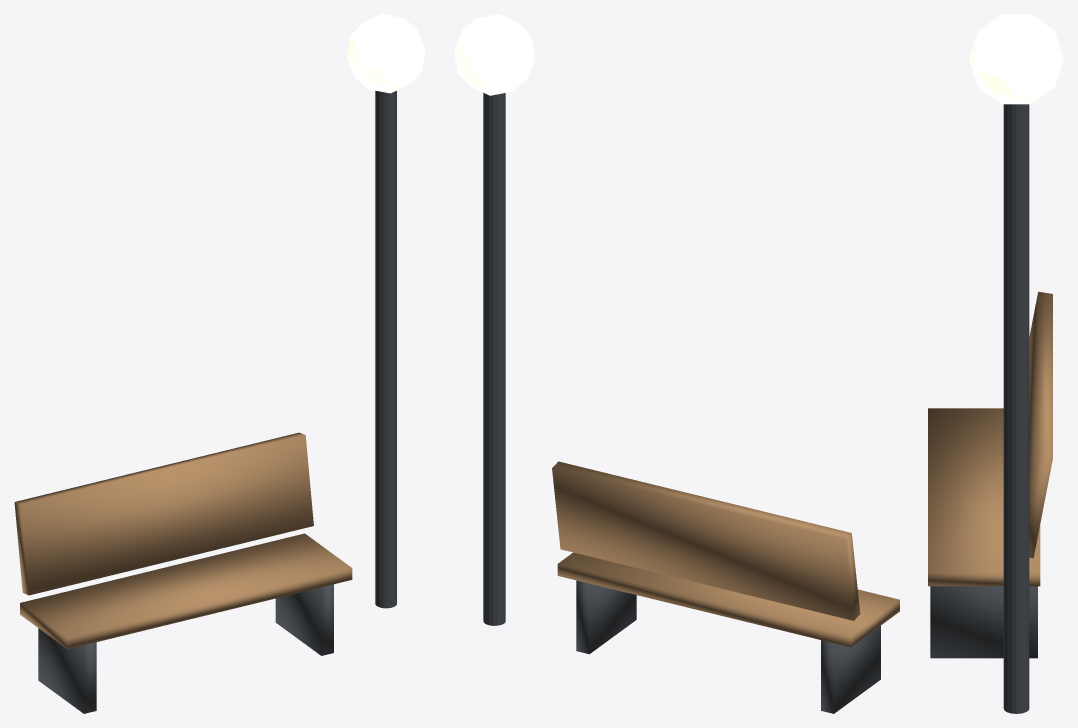
Rendered from Prop_ParkBenchLamp_Hybrid.glb.
3 renders of one model, left to right at view 1: azimuth 30°, elevation 25°; view 2: azimuth 150°, elevation 25°; view 3: azimuth 270°, elevation 25°, orthographic. The views are drawn at different scales.
Visible parts, largest first — view 1: Bench_Back, Bench_Seat, Cylinder, Icosphere, Bench_Leg_-0.75, Bench_Leg_0.75; view 2: Bench_Back, Cylinder, Bench_Seat, Icosphere, Bench_Leg_-0.75, Bench_Leg_0.75; view 3: Cylinder, Bench_Seat, Icosphere, Bench_Leg_0.75, Bench_Back.
Part boxes in pixels (box(x1,y1,x2,y2)): Bench_Back: box(14, 432, 313, 595); Bench_Seat: box(20, 533, 352, 649); Cylinder: box(375, 90, 396, 608); Icosphere: box(347, 14, 425, 93); Bench_Leg_-0.75: box(38, 628, 96, 713); Bench_Leg_0.75: box(275, 584, 333, 655); Bench_Back: box(552, 461, 860, 620); Cylinder: box(483, 93, 505, 625); Bench_Seat: box(557, 552, 899, 647); Icosphere: box(454, 14, 534, 95); Bench_Leg_-0.75: box(821, 625, 880, 713); Bench_Leg_0.75: box(576, 580, 636, 654); Cylinder: box(1003, 104, 1029, 713); Bench_Seat: box(928, 408, 1040, 586); Icosphere: box(969, 14, 1063, 104); Bench_Leg_0.75: box(930, 586, 1037, 658); Bench_Back: box(1029, 291, 1052, 558).
Size of the model in its own units: 2.46 by 3.54 by 0.63.
